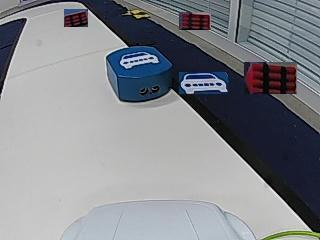safety: (119, 51, 159, 69)
